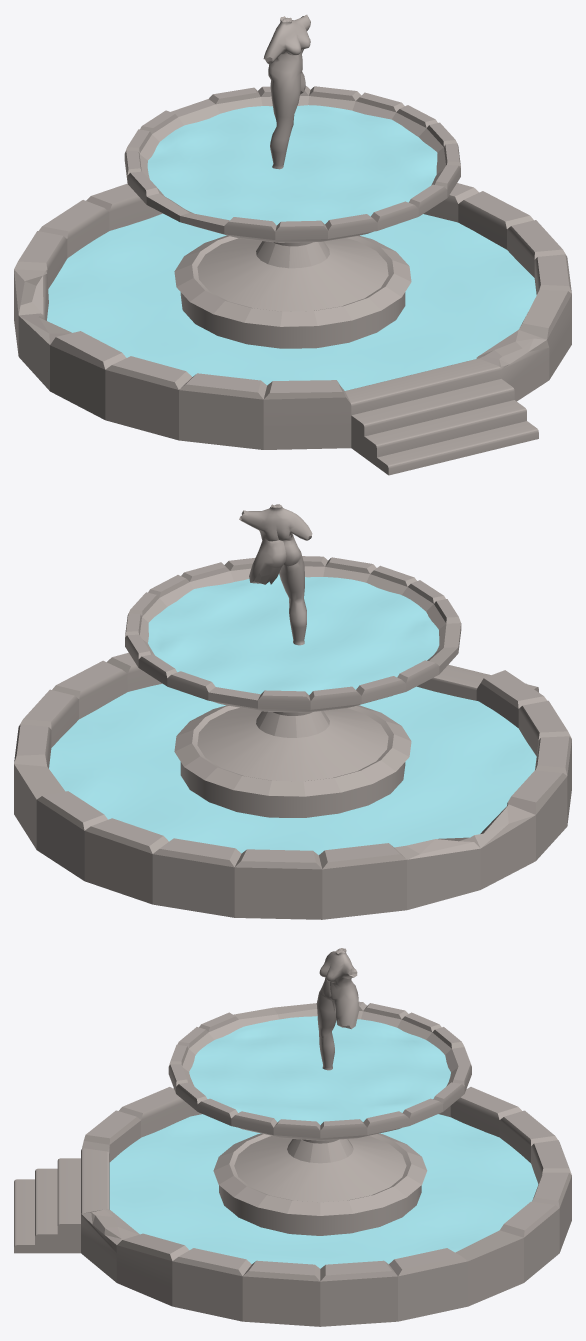
The model's file is fountainOfYouth.fbx.
The picture shows the model from 3 angles, top to bottom: view 1: azimuth 30°, elevation 25°; view 2: azimuth 150°, elevation 25°; view 3: azimuth 270°, elevation 25°; orthographic projection. The views are drawn at different scales.
Parts seen in each view (by area): view 1: fountain, water1, water2, lady; view 2: fountain, water1, water2, lady; view 3: fountain, water1, water2, lady.
Part boxes in pixels (<box>): fountain: <box>14,86,571,475</box>; water1: <box>47,213,536,390</box>; water2: <box>147,105,437,225</box>; lady: <box>263,14,310,169</box>; fountain: <box>14,556,571,919</box>; water1: <box>49,683,536,854</box>; water2: <box>148,574,439,694</box>; lady: <box>239,504,312,645</box>; fountain: <box>14,1001,571,1326</box>; water1: <box>109,1114,538,1268</box>; water2: <box>189,1016,450,1124</box>; lady: <box>316,948,359,1070</box>.
Bounding box in the file's own units: 16.67 × 10.05 × 18.49.
